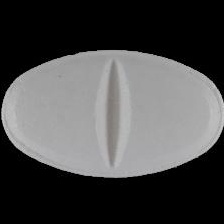0615-7823: (0, 0, 224, 224)
